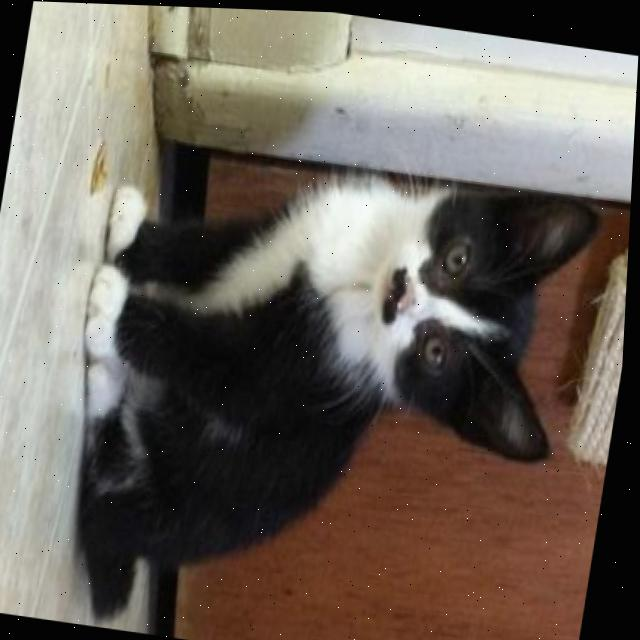Tuxedo: (41, 126, 611, 640)
